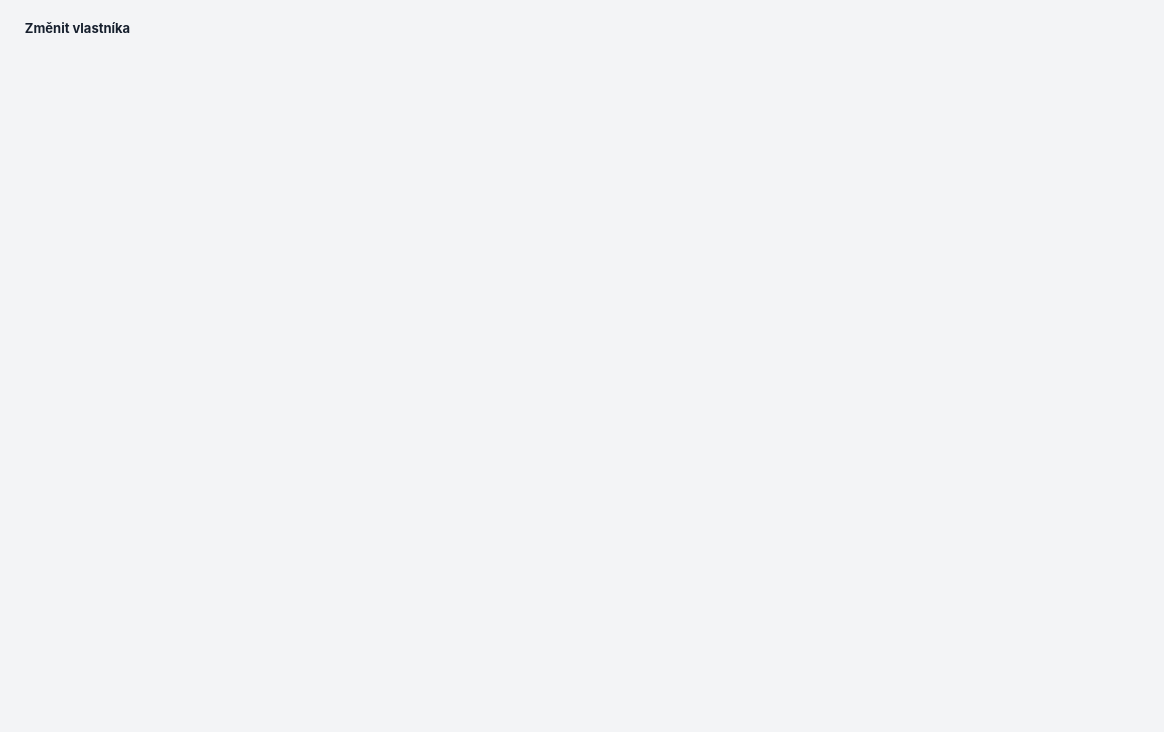
Test: OwnerChange (komponenta) › uložení: zavolá akci s novým stavem a očekávaným původním, ukáže toast se Zpět a obnoví stránku
Click the button "Změnit vlastníka".
click(77, 28)  # box [12, 12, 143, 44]
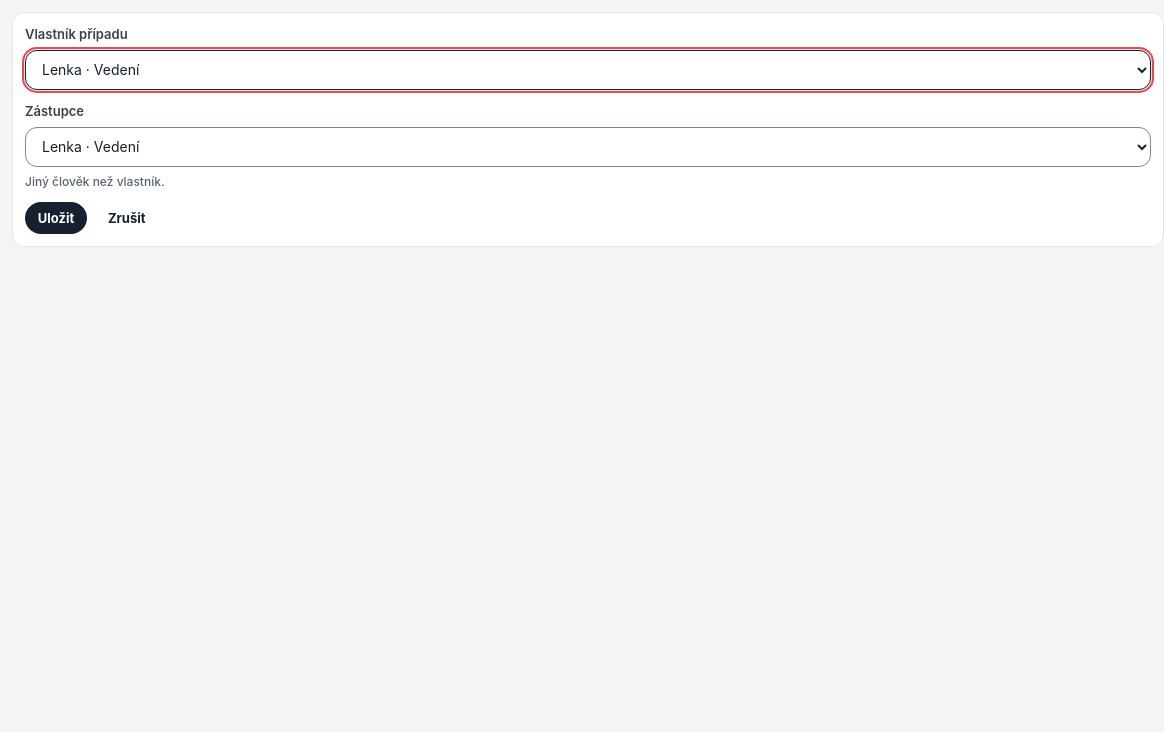
Select "Lenka · Vedení" in the dropdown named "owner_id" at (588, 70), box [25, 50, 1151, 90]
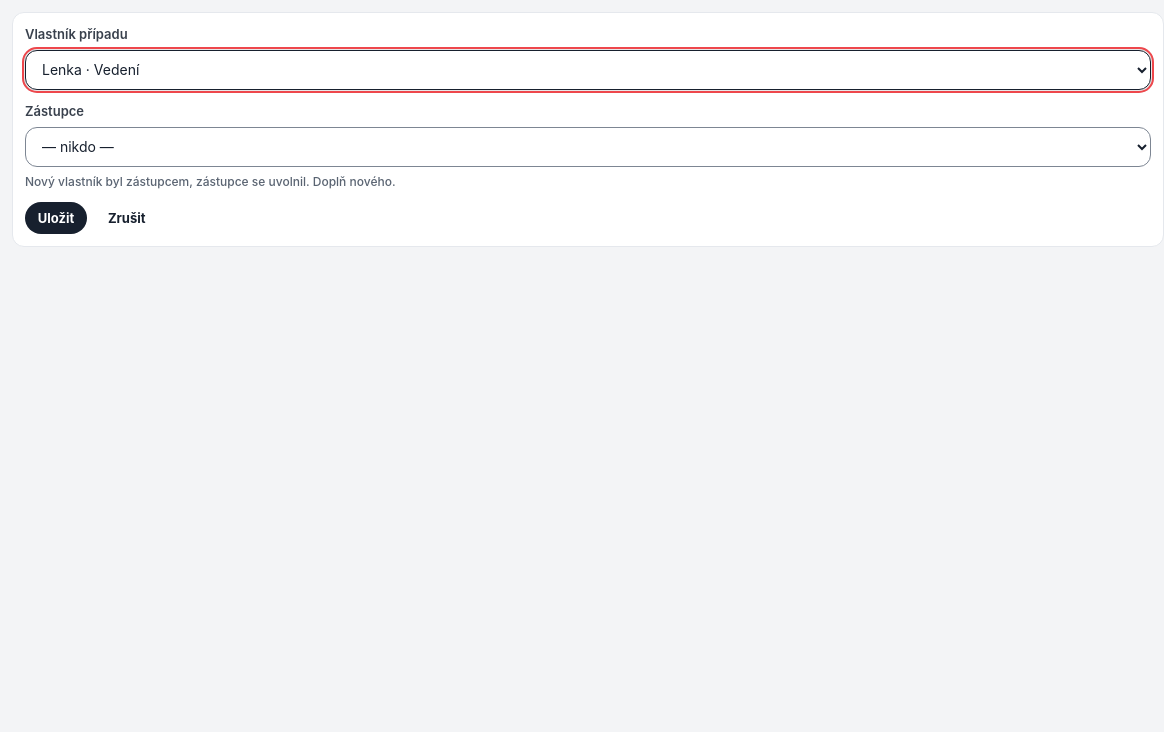
Submit the form, box [12, 12, 1163, 247]
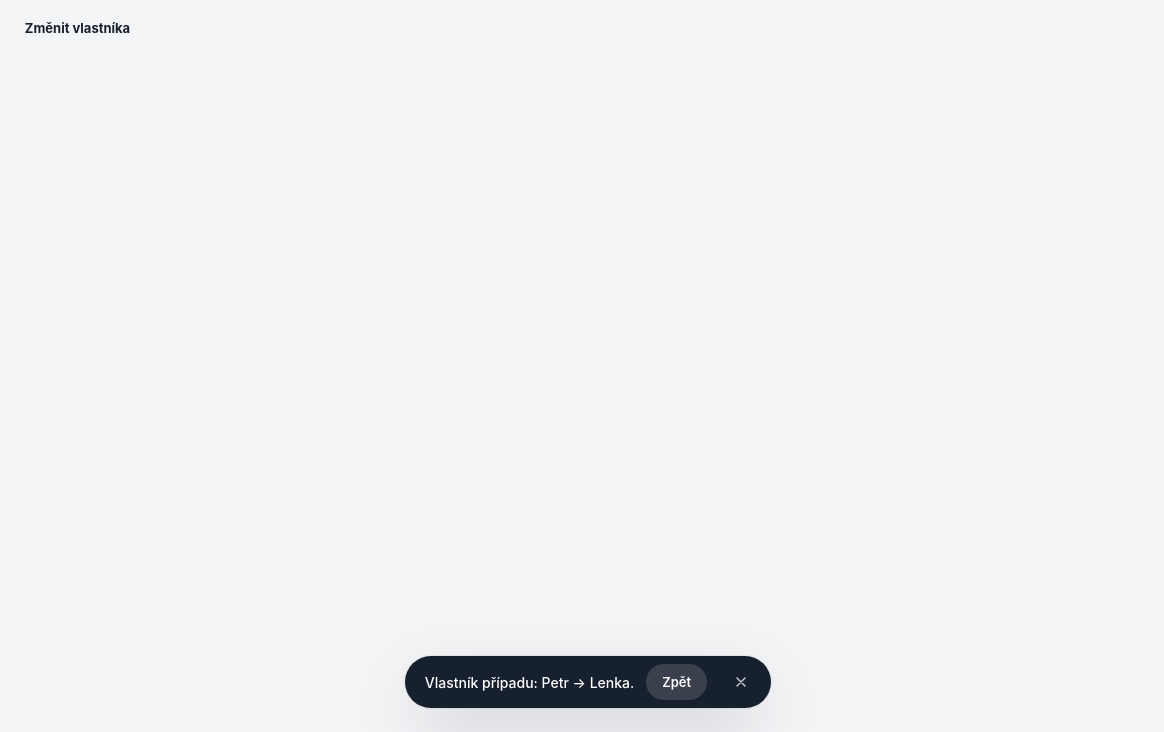
expect the button "Zpět" is shown: met, box [646, 664, 707, 700]
expect the form is gone: met
expect the button "Změnit vlastníka" is shown: met, box [12, 12, 143, 44]
